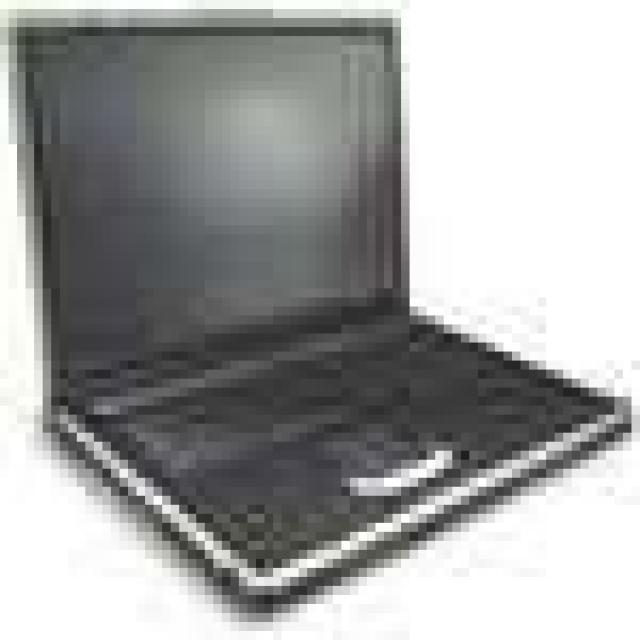laptop: (15, 18, 625, 554)
